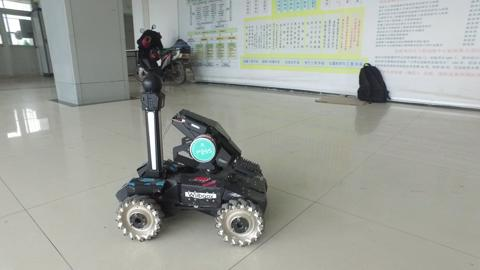bag: (354, 60, 390, 106)
chariot: (113, 71, 269, 246)
